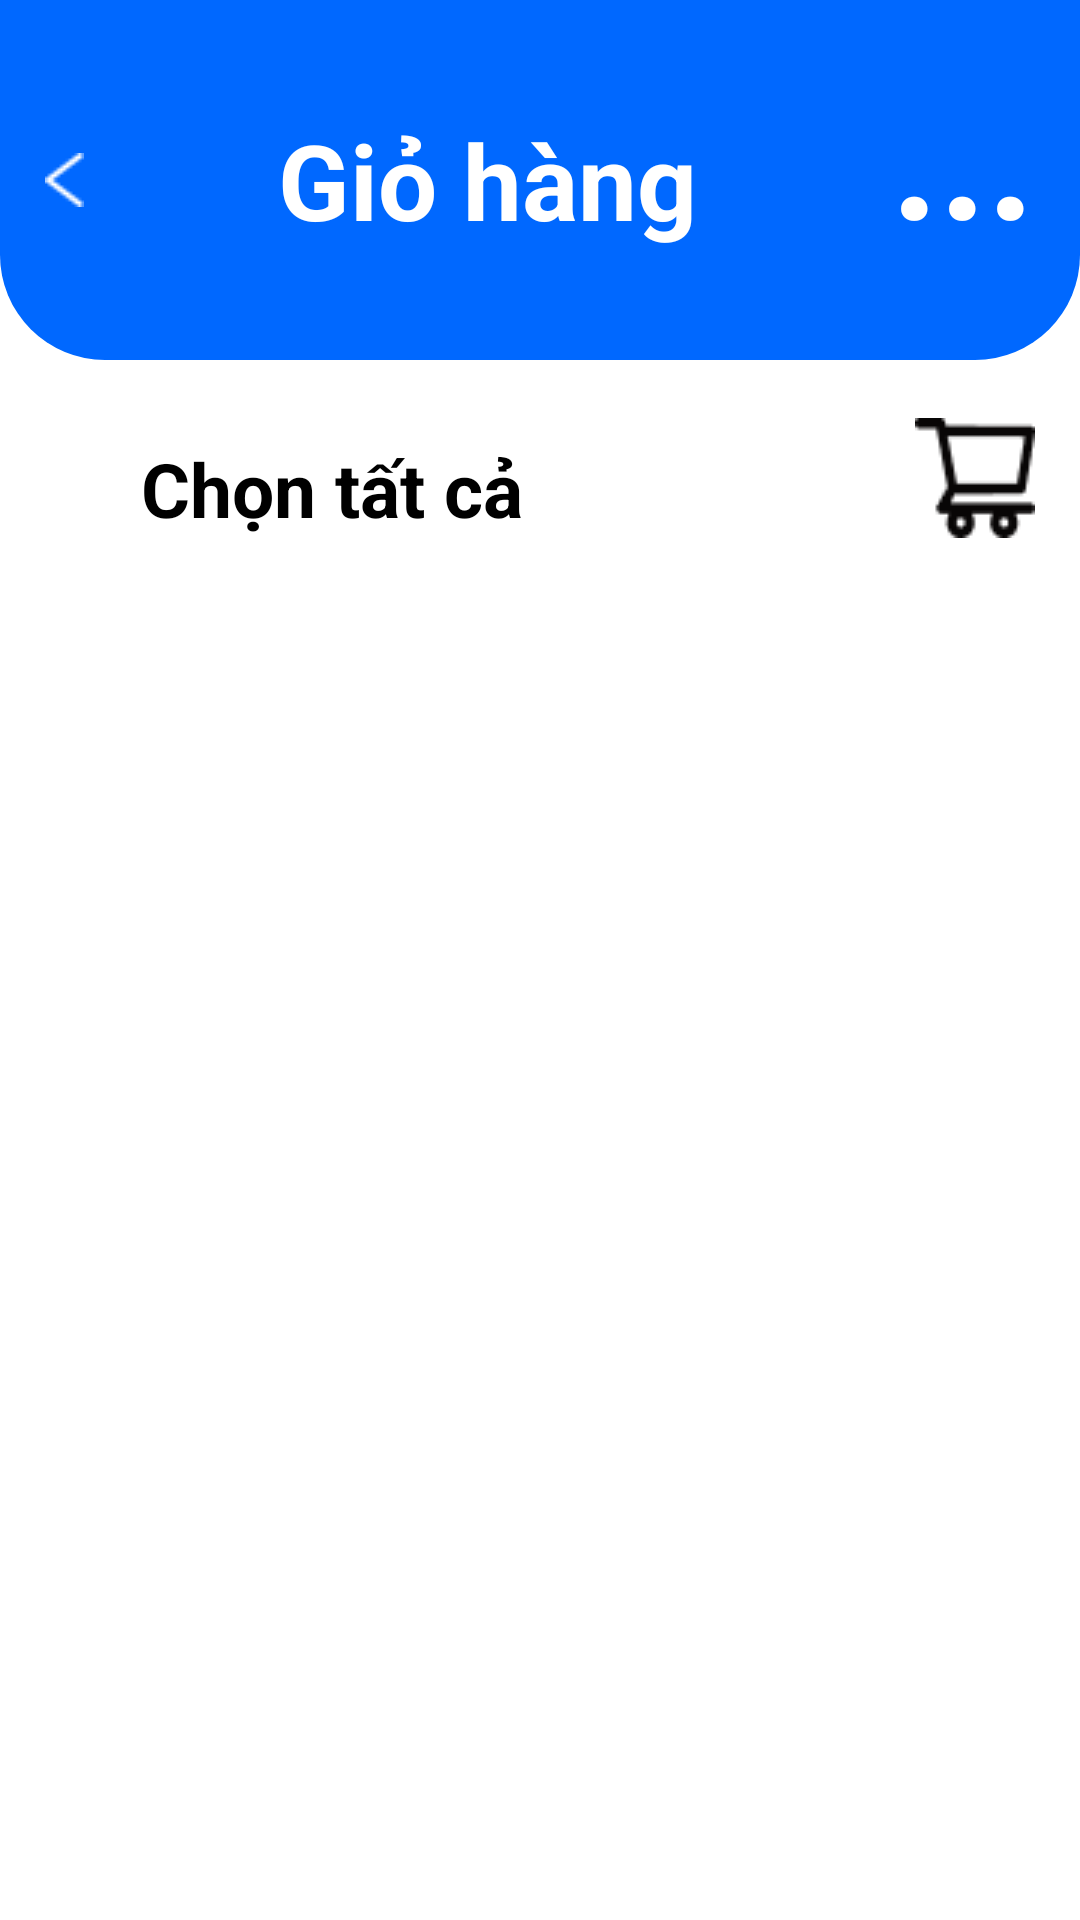

Where to tap for icons on this 1080 x 1920 app screen, as (x,y):
giohang: (975,478)
